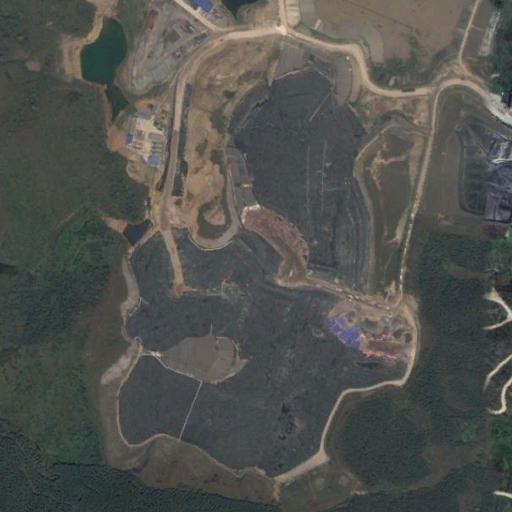lf: (117, 67, 411, 477)
